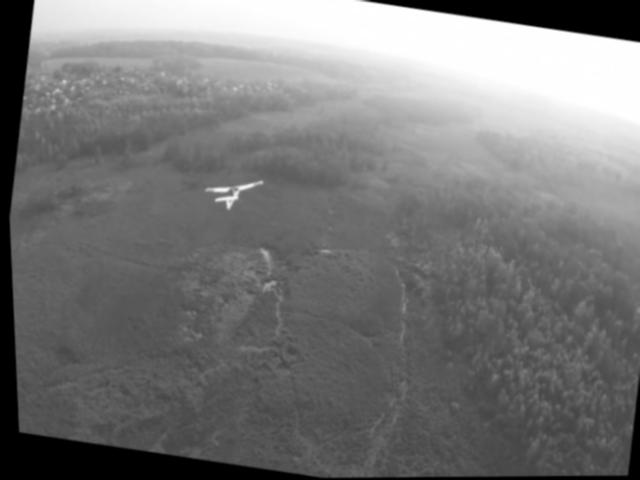hedef: (190, 165, 269, 222)
